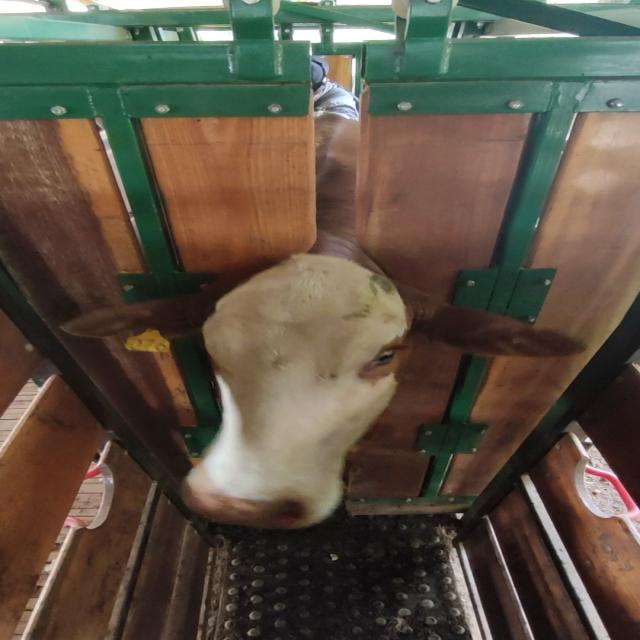cowFace: (176, 252, 409, 532)
